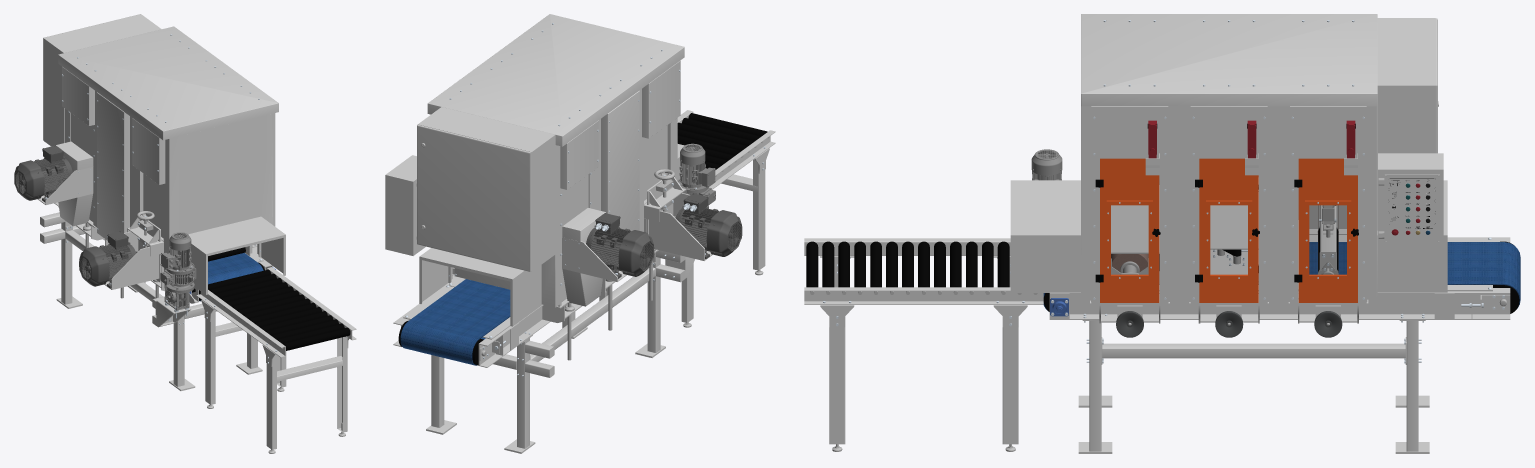
File: SATYNIARKA.glb
3 views of the same model, side by side, from view 1: azimuth 30°, elevation 25°; view 2: azimuth 150°, elevation 25°; view 3: azimuth 270°, elevation 25° (orthographic). The views are drawn at different scales.
Parts seen in each view (by area): view 1: Cube.016, Cube.028, Cube.024, Cube.009, Cylinder.018, Cube.014, Cube, Cube.006, Cube.023, KACPEREK_IE2-132S-4_B3:1, KACPEREK_IE2-132S-4_B3:597, Cube.034 (+9 smaller); view 2: Cube.014, Cube.016, Cube.024, Cube, PRO-000046592:856, Cube.004, Cube.009, Cube.023, Cube.017, KACPEREK_IE2-132S-4_B3:1, Cylinder.018, KACPEREK_IE2-132S-4_B3:597 (+11 smaller); view 3: Cube.043, Cube.016, Cube.009, Cube, Plane, Cube.014, Cube.006, PRO-000049445:3.002, Cube.003, Cylinder.018, Cube.007, PRO-000046592:856 (+12 smaller).
Boxes of the visible parts, x1,y1,x2,y2 form: Cube.016: (58,26,278,140); Cube.028: (165,113,272,269); Cube.024: (62,66,165,241); Cube.009: (196,267,356,449); Cylinder.018: (207,269,350,350); Cube.014: (43,14,161,146); Cube: (40,207,262,390); Cube.006: (188,216,285,294); Cube.023: (56,113,93,226); KACPEREK_IE2-132S-4_B3:1: (14,145,72,202); KACPEREK_IE2-132S-4_B3:597: (79,231,136,288); Cube.034: (104,231,159,289); Cube.014: (417,107,555,271); Cube.016: (427,14,684,146); Cube.024: (560,60,680,230); Cube: (426,250,685,453); PRO-000046592:856: (400,279,510,365); Cube.004: (419,248,541,326); Cube.009: (599,110,775,322); Cube.023: (452,174,605,306); Cube.017: (385,155,425,255); KACPEREK_IE2-132S-4_B3:1: (586,213,654,278); Cylinder.018: (677,113,769,176); KACPEREK_IE2-132S-4_B3:597: (675,193,742,258); Cube.043: (1091,106,1366,305); Cube.016: (1081,14,1377,106); Cube.009: (804,238,1043,444); Cube: (1078,320,1429,453); Plane: (1168,106,1289,301); Cube.014: (1377,18,1437,230); Cube.006: (1010,180,1080,292); PRO-000049445:3.002: (1111,206,1346,274); Cube.003: (1049,237,1510,319); Cylinder.018: (806,241,1037,294); Cube.007: (1111,177,1258,274); PRO-000046592:856: (1043,242,1520,311).
Bounding box in the file's own units: 1.56 × 2.06 × 3.59.
Materials: 20 (2 with a texture image).
